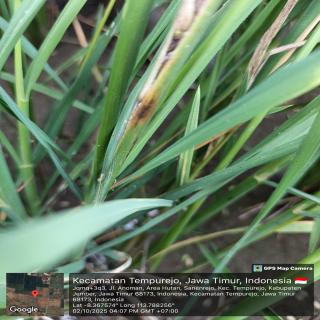Busuk-Pelepah: (126, 0, 215, 142)
